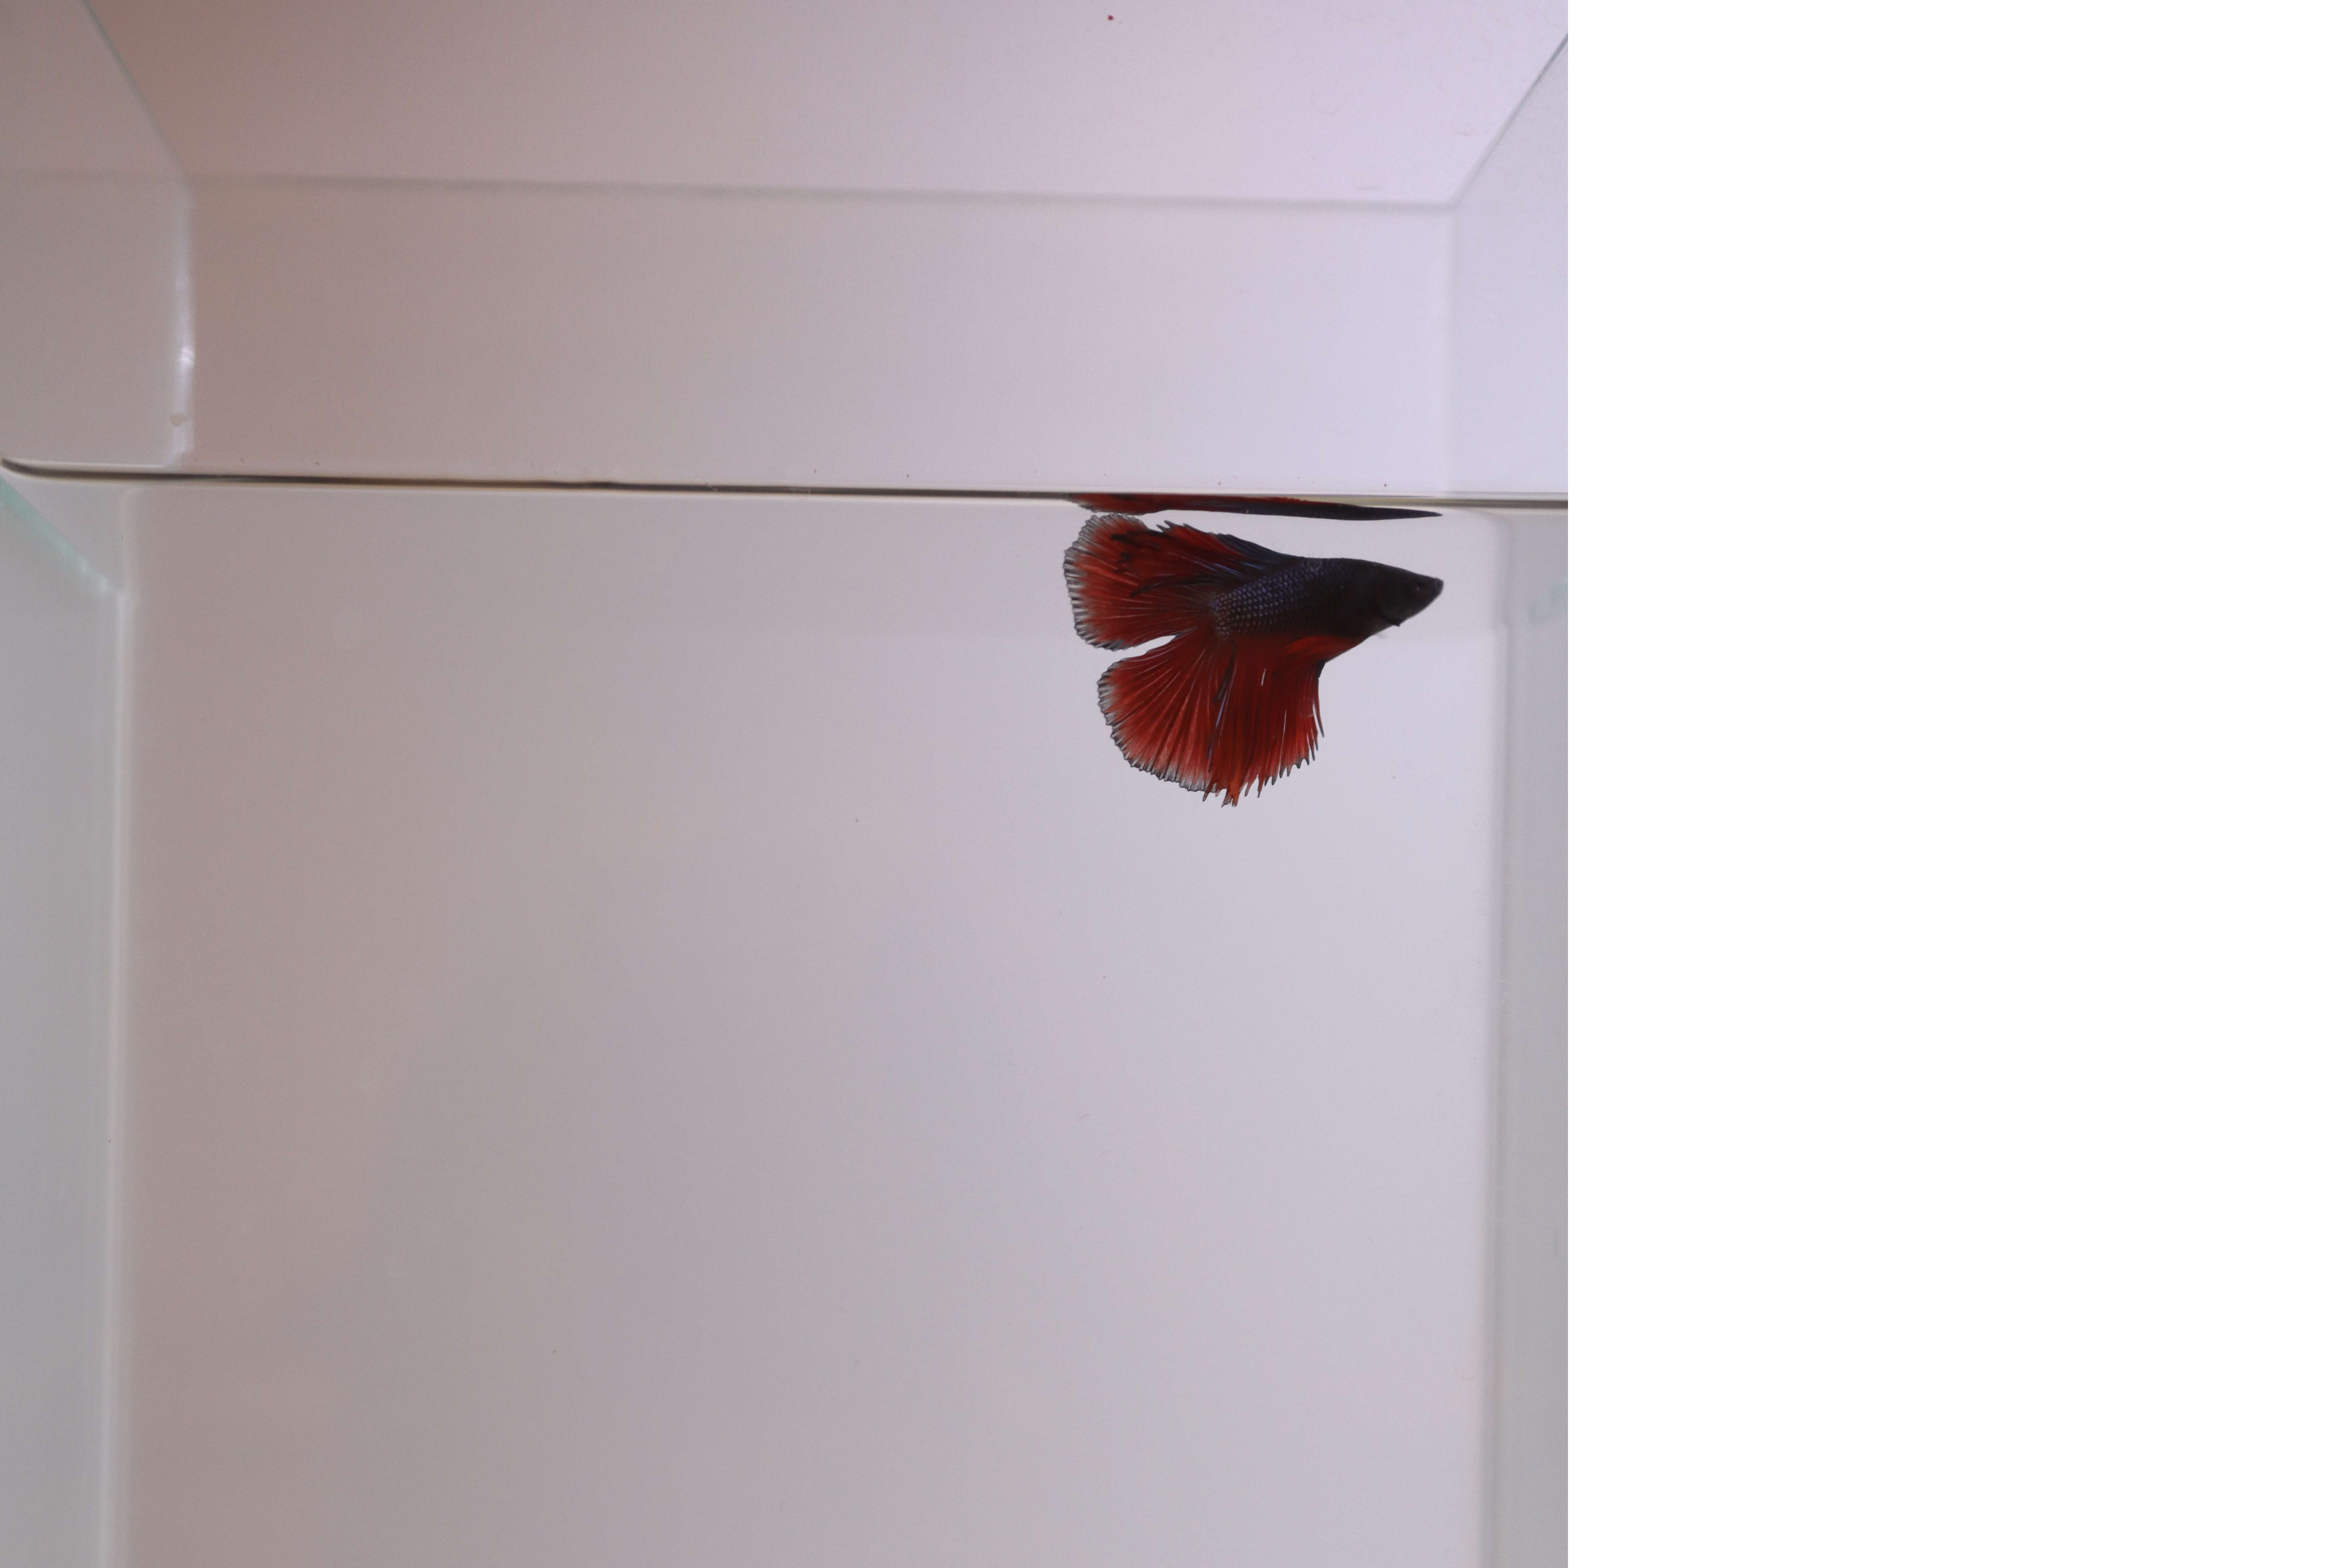fish: (1050, 514, 1468, 807)
